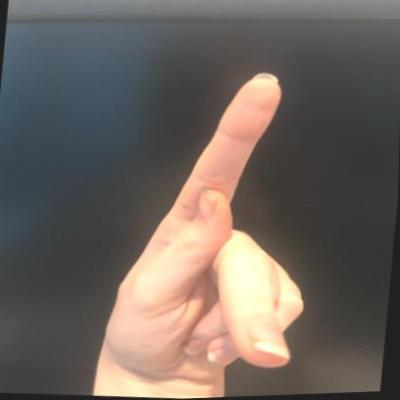hand: (94, 60, 331, 393)
